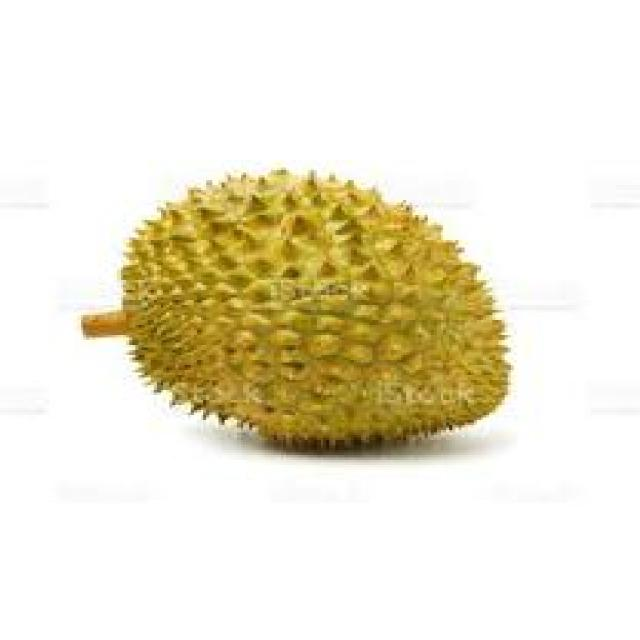non_orange: (120, 140, 535, 472)
